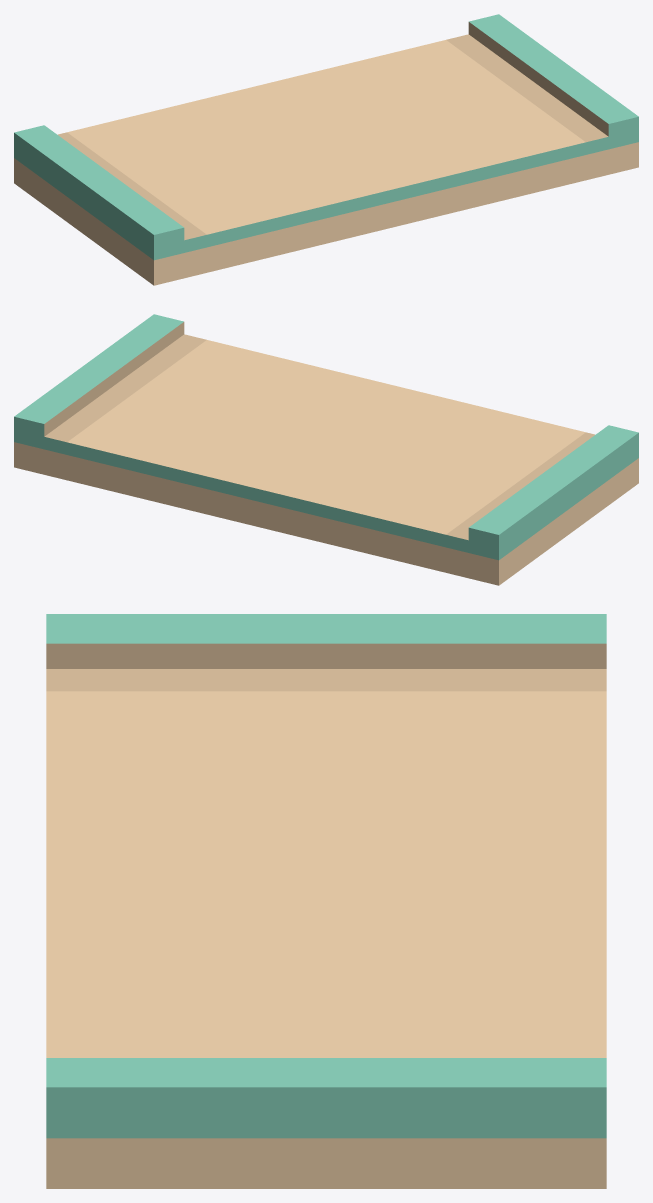
Rendered from tile_wideStraight.glb.
The picture shows the model from 3 angles, top to bottom: view 1: azimuth 30°, elevation 25°; view 2: azimuth 150°, elevation 25°; view 3: azimuth 270°, elevation 25°; orthographic projection. The views are drawn at different scales.
Parts seen in each view (by area): view 1: tile_wideStraight; view 2: tile_wideStraight; view 3: tile_wideStraight.
Boxes of the visible parts, <box> form: tile_wideStraight: <box>14,14,638,285</box>; tile_wideStraight: <box>14,314,638,585</box>; tile_wideStraight: <box>46,614,606,1188</box>.
Size of the model in its own units: 2 by 0.2 by 1.
